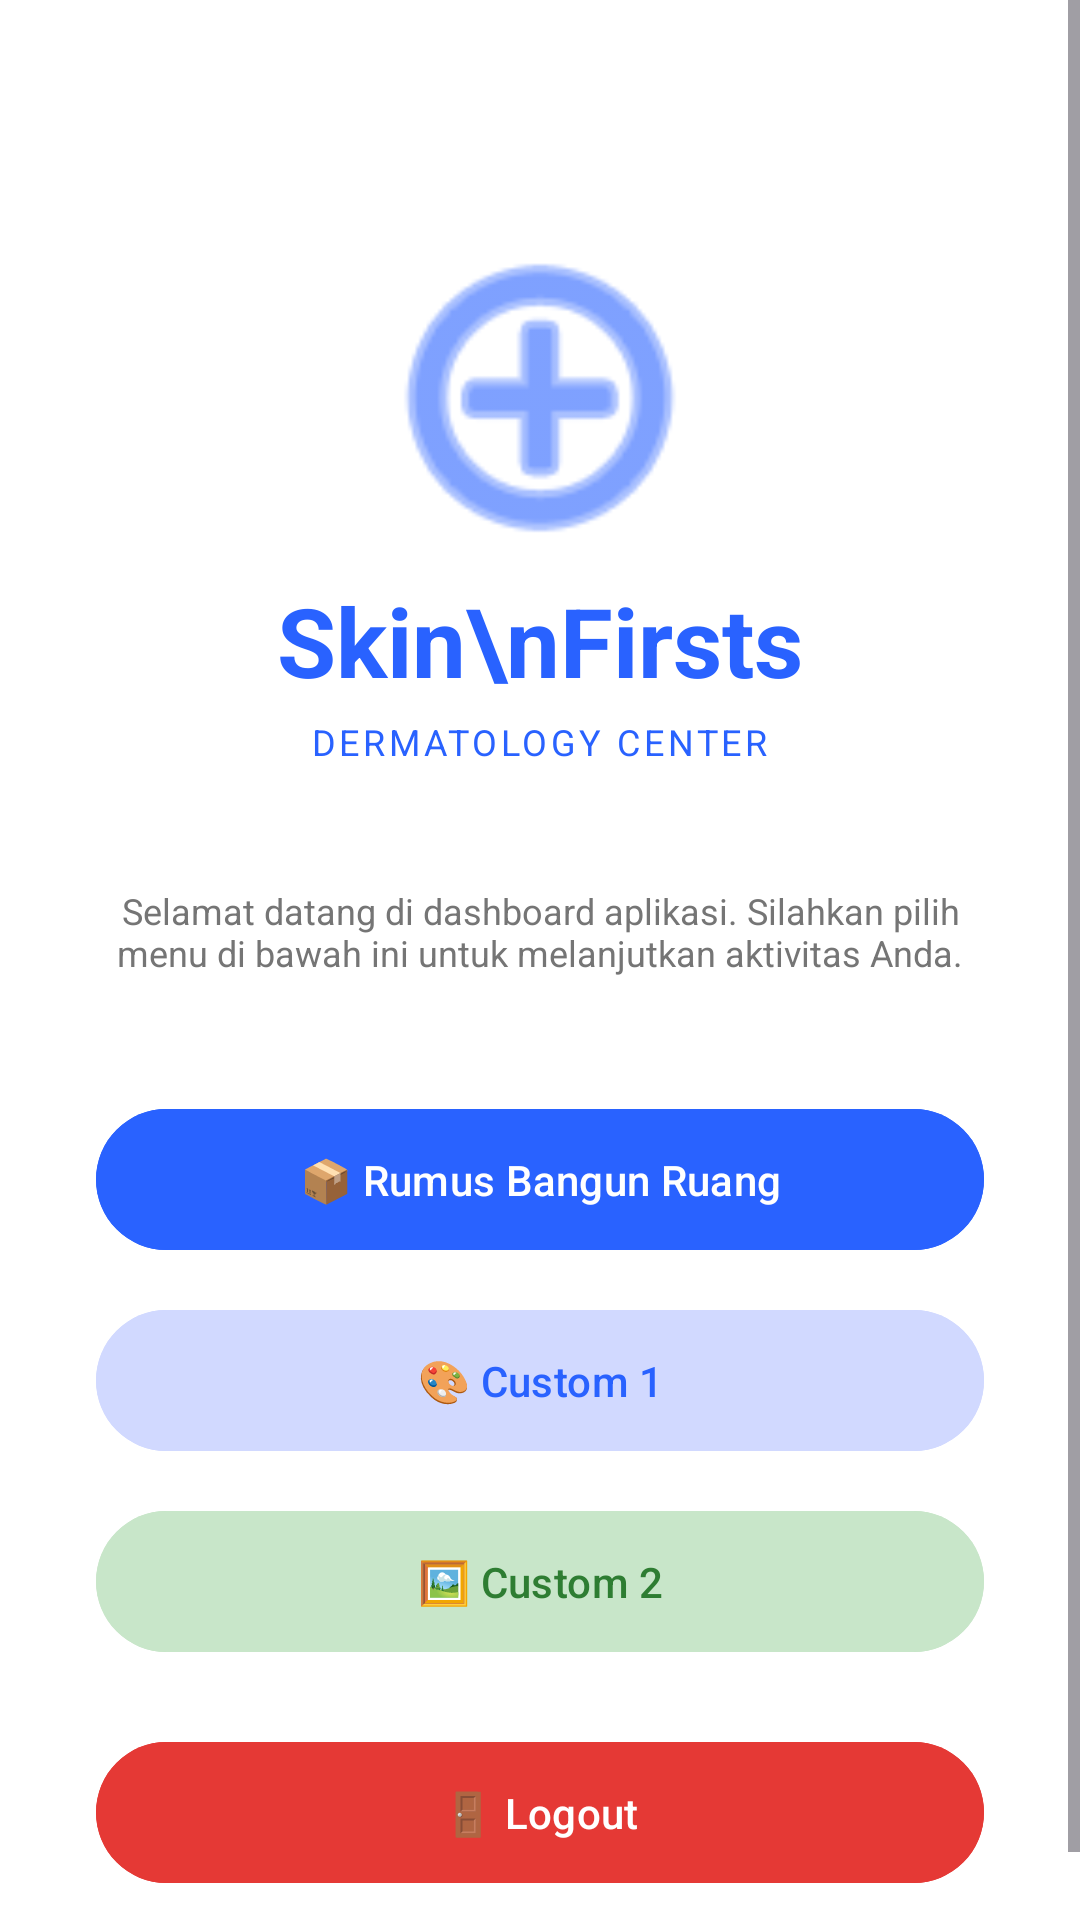

Icon click points for this 1080*1920 phone screenshot, format (x,y):
add: (540,398)
